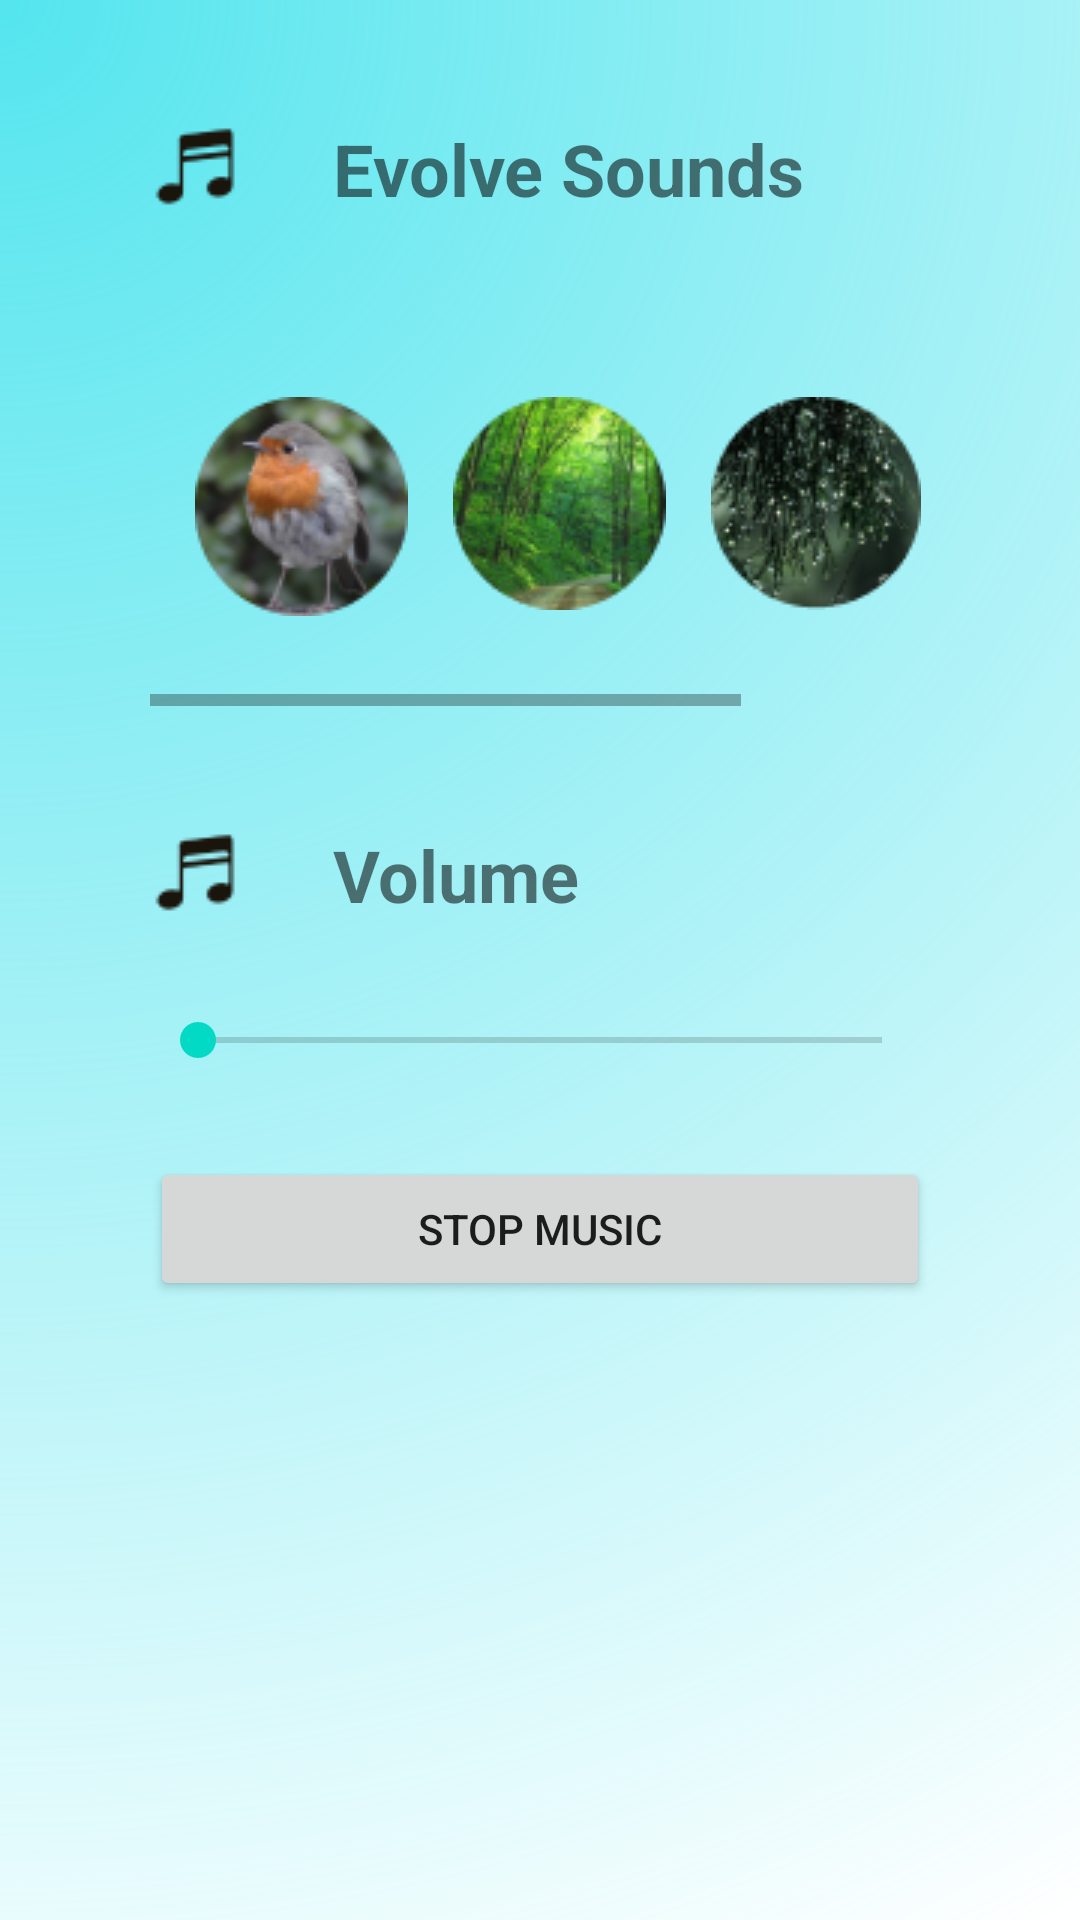

Screen size 1080*1920. Icon name, then its box in pixels as bbox=[x1, y1, x2, y2]:
chirp: bbox=[195, 397, 408, 616]
forest: bbox=[453, 397, 666, 610]
rain: bbox=[711, 397, 921, 610]
